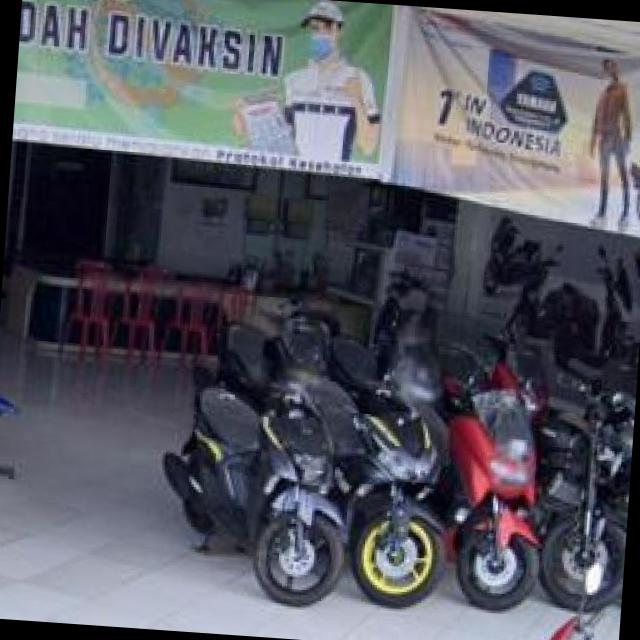bike: (161, 317, 346, 607), (331, 358, 444, 609), (433, 363, 538, 611), (536, 365, 634, 609)
